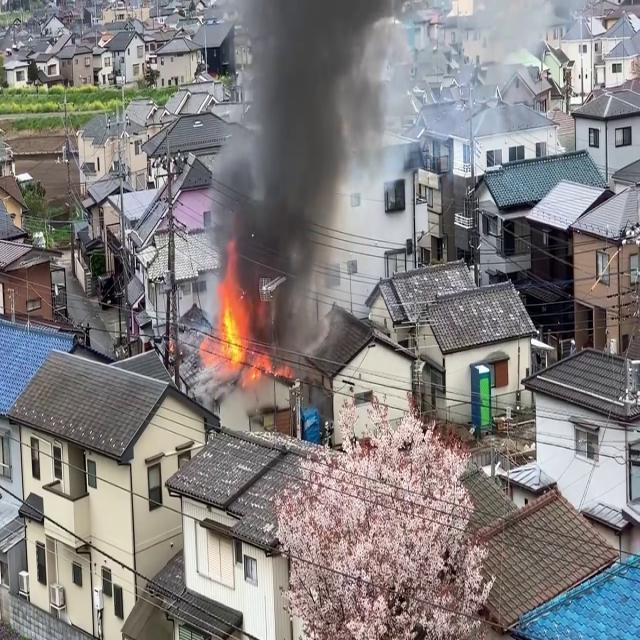Fire: (210, 255, 256, 373)
Smoke: (205, 0, 389, 346)
